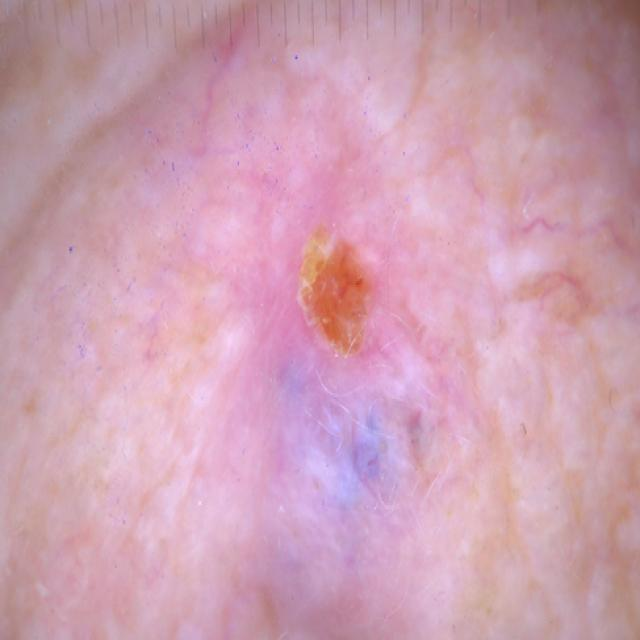Carcinoma: (233, 187, 467, 570)
